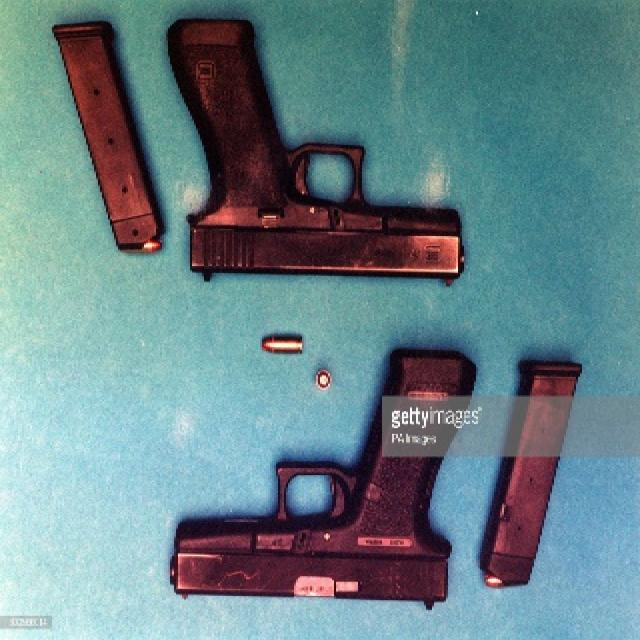handgun: (159, 12, 469, 297), (161, 344, 477, 610)
